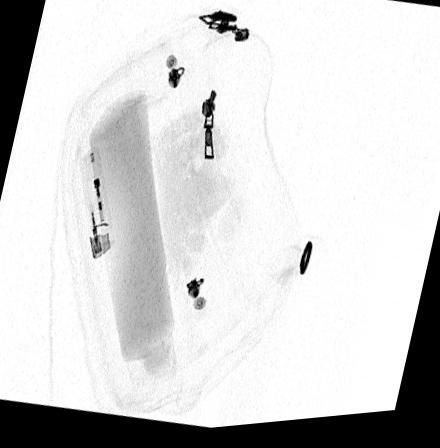Lighter: (78, 148, 113, 261)
